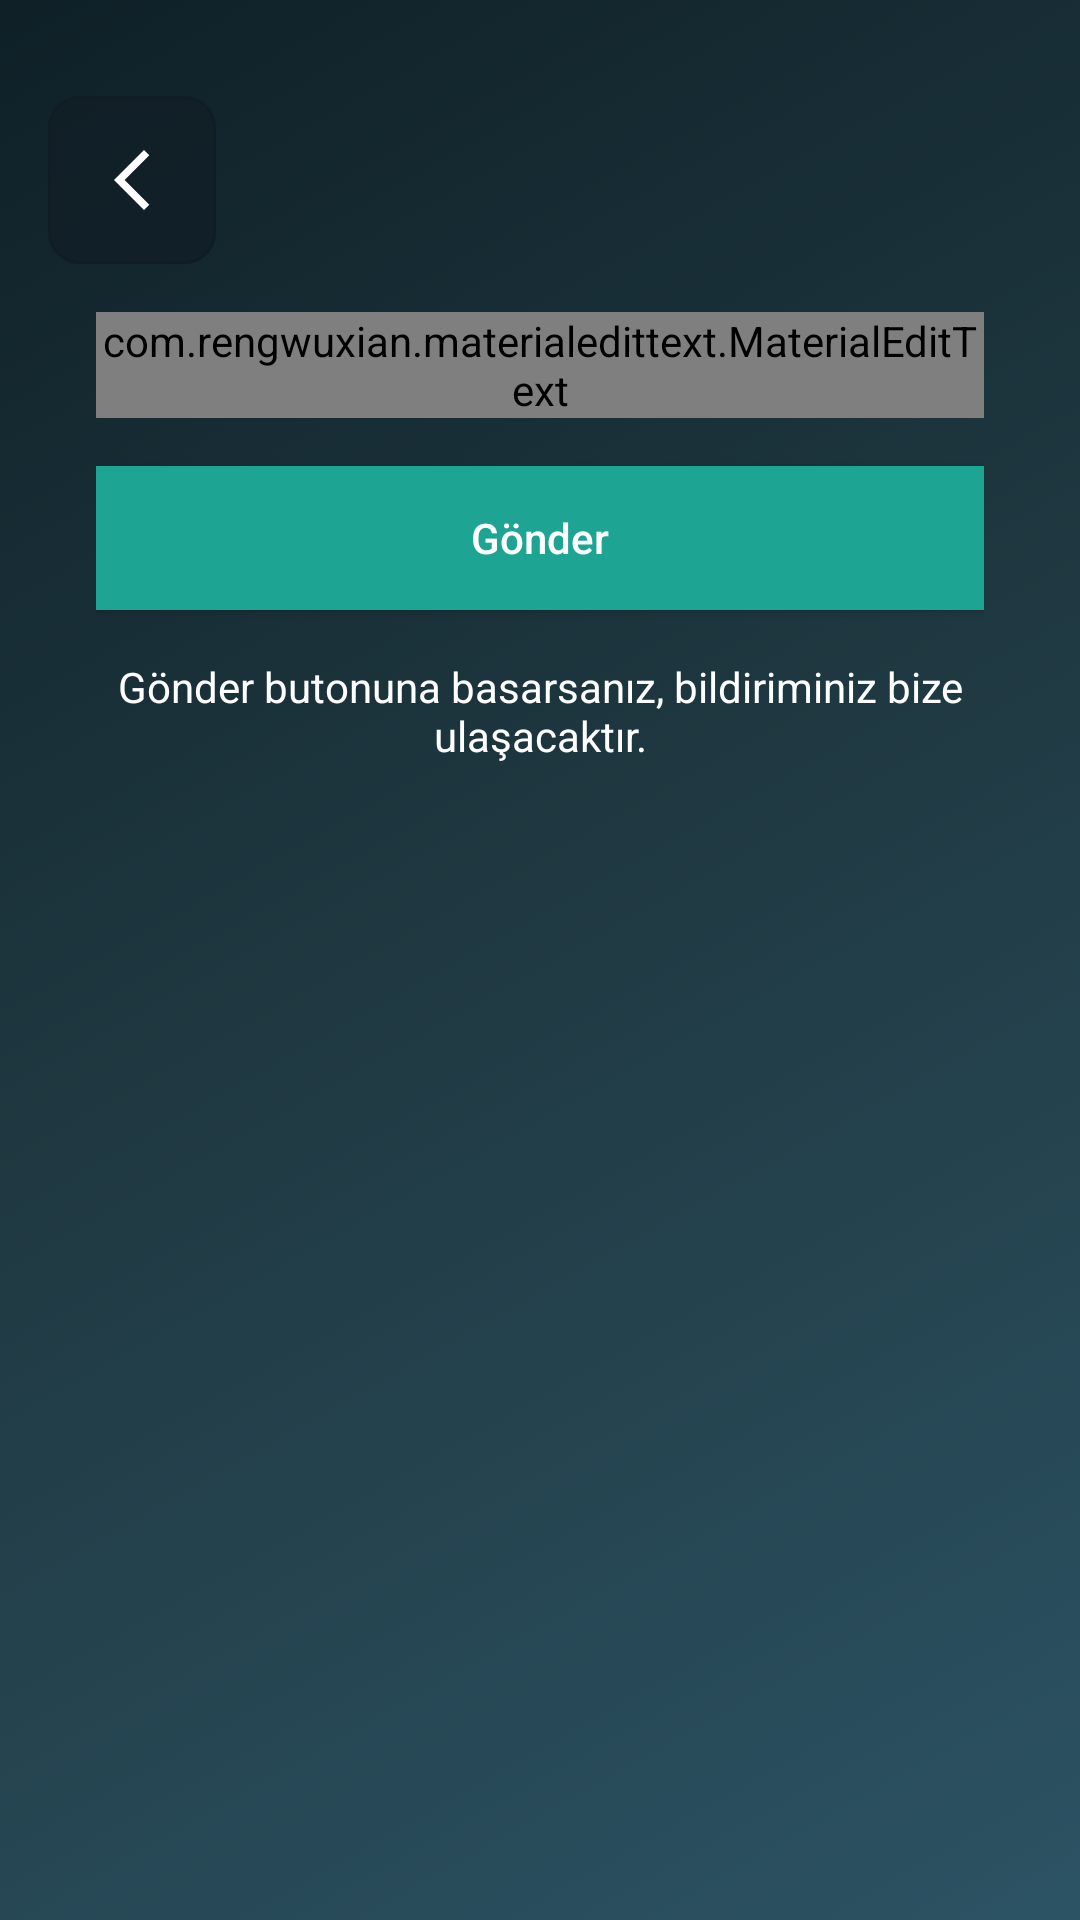

Icons on this 1080×1920 Android screen, each with the point to tap as (x=x, y=y):
back: (x=131, y=180)
